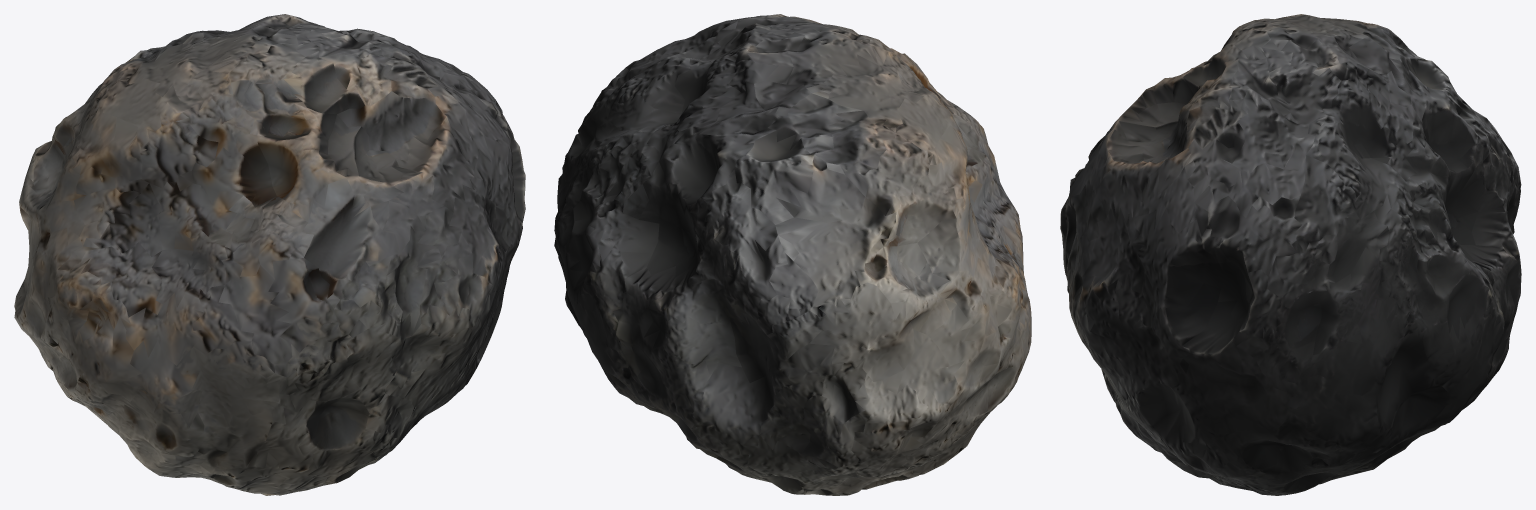
Rendered from NormalOre.glb.
3 views of the same model, side by side, from view 1: azimuth 30°, elevation 25°; view 2: azimuth 150°, elevation 25°; view 3: azimuth 270°, elevation 25° (orthographic).
Parts seen in each view (by area): view 1: NormalOre.001; view 2: NormalOre.001; view 3: NormalOre.001.
Part boxes in pixels (x1,y1,x2,y2): NormalOre.001: [14, 14, 525, 495]; NormalOre.001: [554, 14, 1031, 495]; NormalOre.001: [1060, 14, 1521, 495].
Size of the model in its own units: 0.3358 by 0.3142 by 0.2982.
Materials: 1 (1 with a texture image).
